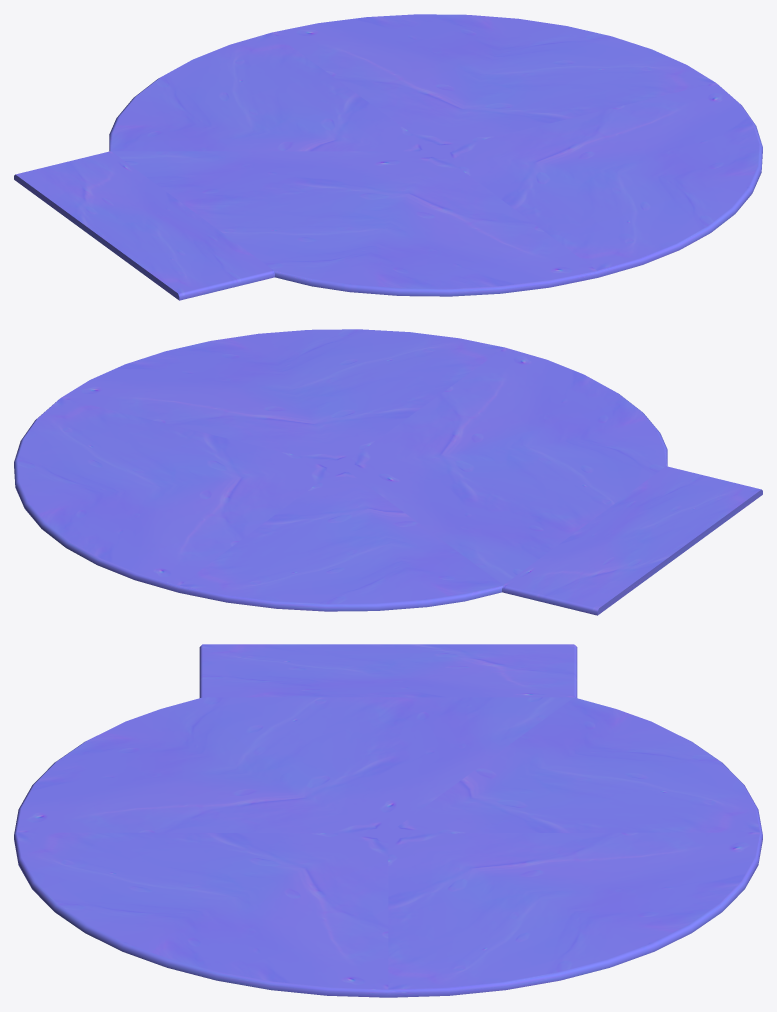
File: sm_road_end_01.fbx
The picture shows the model from 3 angles, top to bottom: view 1: azimuth 30°, elevation 25°; view 2: azimuth 150°, elevation 25°; view 3: azimuth 270°, elevation 25°; orthographic projection. The views are drawn at different scales.
Parts seen in each view (by area): view 1: sm_road_end_01; view 2: sm_road_end_01; view 3: sm_road_end_01.
Part boxes in pixels (bbox=[...]): sm_road_end_01: bbox=[14, 14, 762, 300]; sm_road_end_01: bbox=[14, 329, 762, 615]; sm_road_end_01: bbox=[14, 644, 762, 997].
Size of the model in its own units: 2605 by 24.86 by 2380.
Materials: 1 (1 with a texture image).
